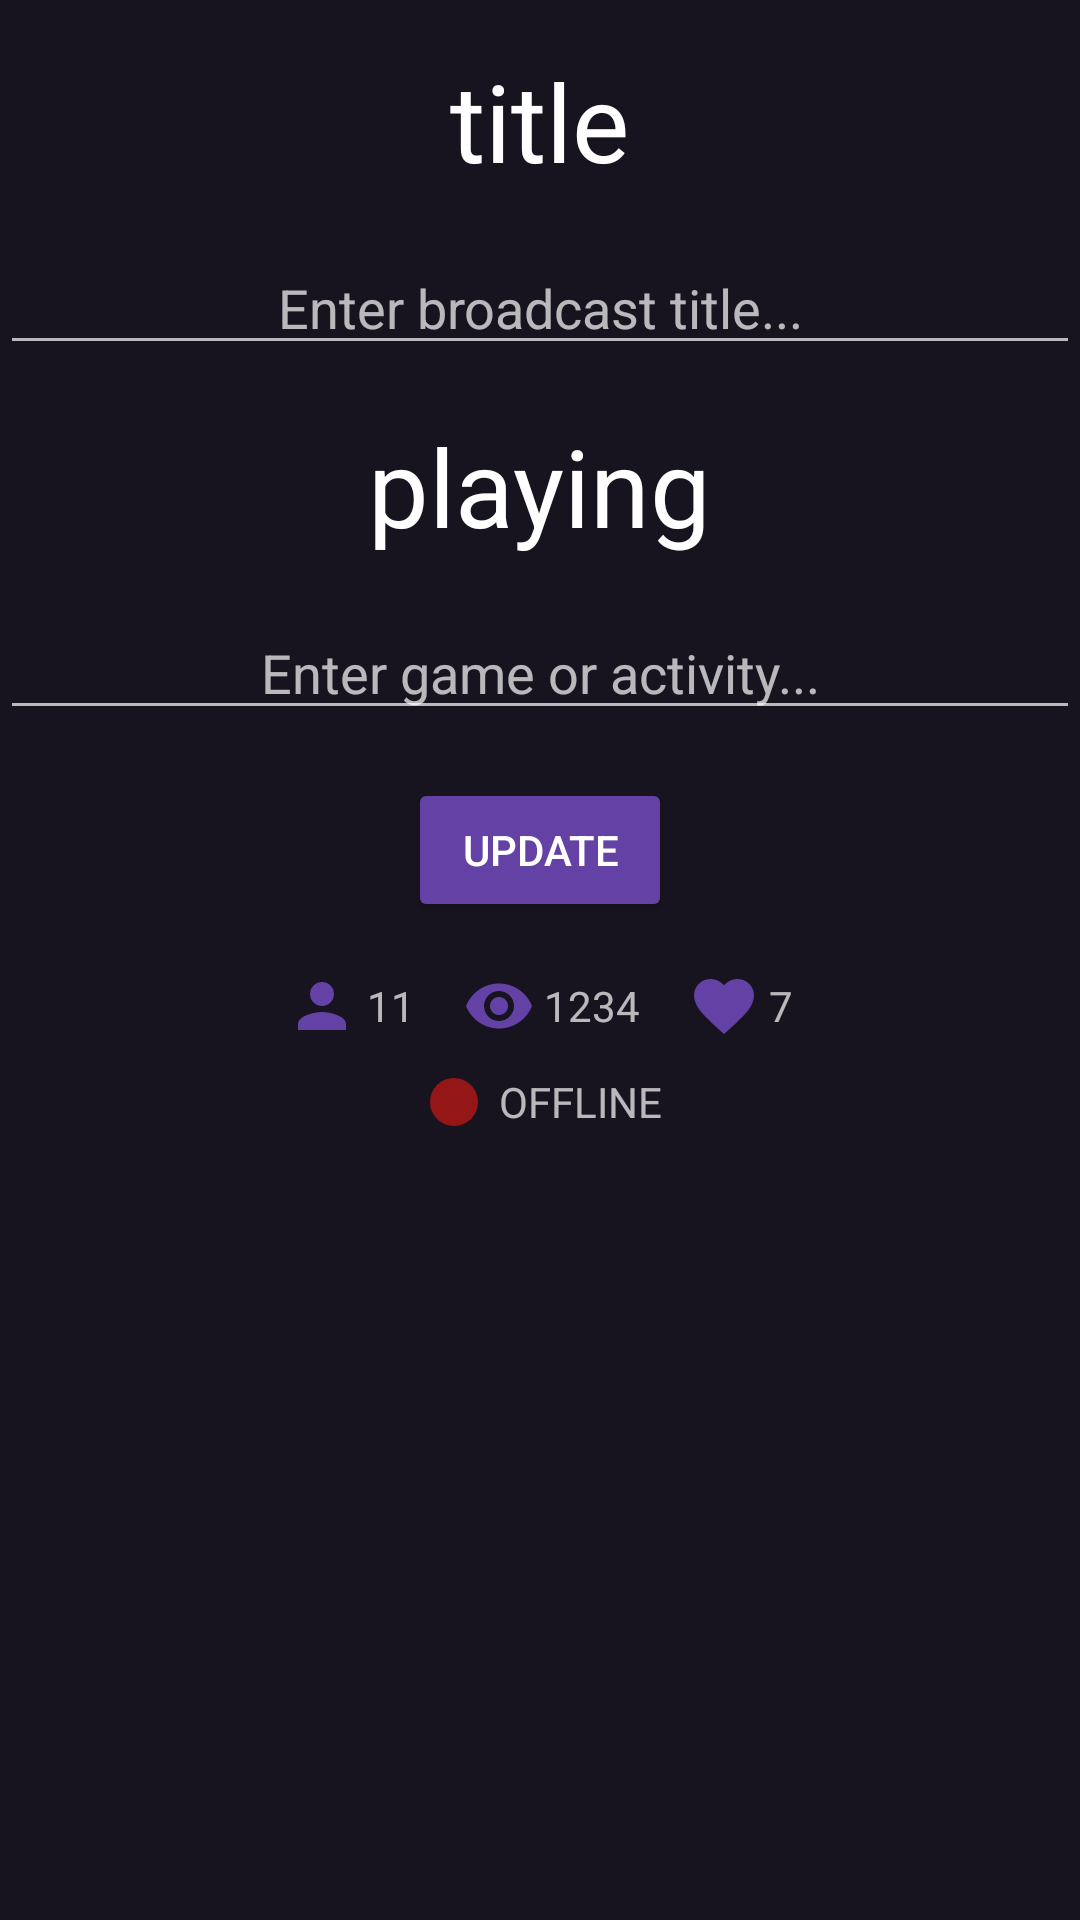

Icon click points for this 1080x1920 phone screenshot, format point (x, y):
follow: point (724, 1006)
person: point (322, 1006)
viewers: point (499, 1006)
